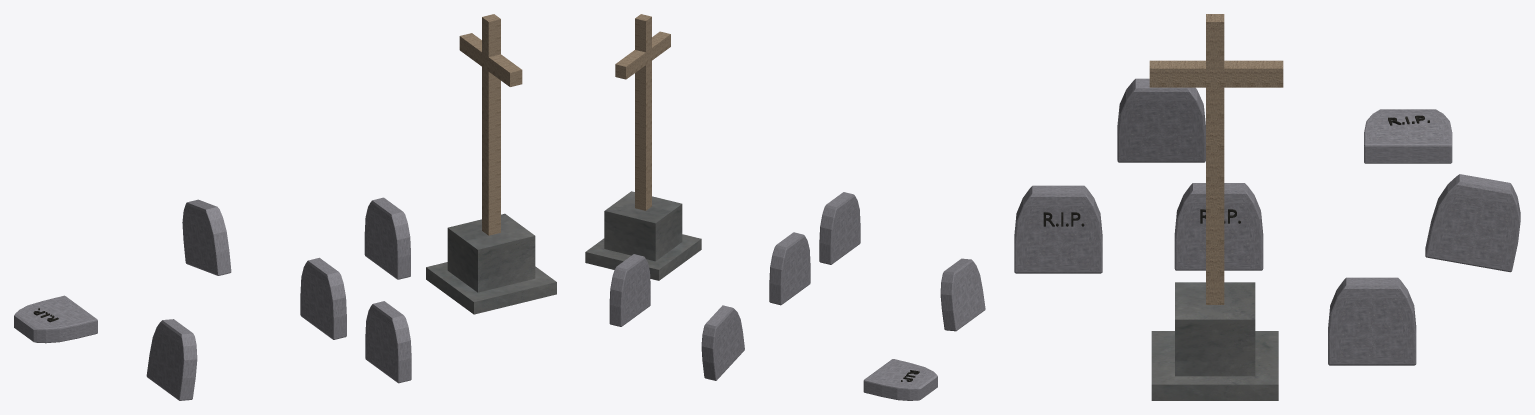
Rendered from Cemetery.fbx.
3 renders of one model, left to right at view 1: azimuth 30°, elevation 25°; view 2: azimuth 150°, elevation 25°; view 3: azimuth 270°, elevation 25°, orthographic. The views are drawn at different scales.
Parts seen in each view (by area): view 1: Cube, Cube.001, Tombstone 1.002, Tombstone 1.003, Tombstone 1, Tombstone 1.005, Tombstone 1.001, Tombstone 1.004; view 2: Cube, Cube.001, Tombstone 1.002, Tombstone 1.001, Tombstone 1.005, Tombstone 1.003, Tombstone 1, Tombstone 1.004; view 3: Cube, Cube.001, Tombstone 1.001, Tombstone 1.005, Tombstone 1.003, Tombstone 1.002, Tombstone 1, Tombstone 1.004.
Part boxes in pixels (x1=…): Cube: x1=426, y1=213, x2=556, y2=314; Cube.001: x1=459, y1=14, x2=522, y2=235; Tombstone 1.002: x1=146, y1=319, x2=197, y2=400; Tombstone 1.003: x1=365, y1=301, x2=411, y2=383; Tombstone 1: x1=300, y1=257, x2=346, y2=339; Tombstone 1.005: x1=364, y1=197, x2=410, y2=279; Tombstone 1.001: x1=182, y1=199, x2=231, y2=275; Tombstone 1.004: x1=14, y1=295, x2=97, y2=343; Cube: x1=585, y1=191, x2=701, y2=280; Cube.001: x1=615, y1=14, x2=670, y2=210; Tombstone 1.002: x1=940, y1=258, x2=985, y2=331; Tombstone 1.001: x1=701, y1=305, x2=744, y2=380; Tombstone 1.005: x1=609, y1=254, x2=650, y2=326; Tombstone 1.003: x1=819, y1=192, x2=860, y2=264; Tombstone 1: x1=769, y1=232, x2=810, y2=305; Tombstone 1.004: x1=863, y1=359, x2=937, y2=400; Cube: x1=1151, y1=282, x2=1278, y2=400; Cube.001: x1=1149, y1=14, x2=1283, y2=304; Tombstone 1.001: x1=1425, y1=174, x2=1520, y2=272; Tombstone 1.005: x1=1328, y1=277, x2=1416, y2=365; Tombstone 1.003: x1=1014, y1=185, x2=1102, y2=273; Tombstone 1.002: x1=1117, y1=78, x2=1205, y2=162; Tombstone 1: x1=1174, y1=183, x2=1263, y2=270; Tombstone 1.004: x1=1364, y1=109, x2=1452, y2=163.
Bounding box in the file's own units: 1509 × 929 × 1145.
Materials: 4 (4 with a texture image).
